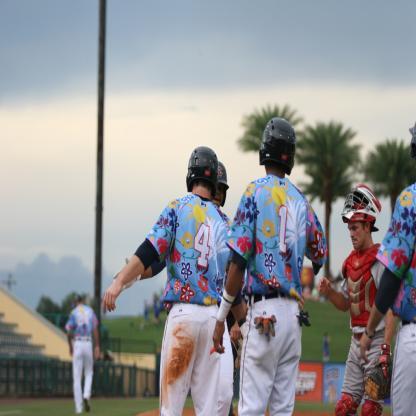Helmet: (258, 117, 300, 175), (184, 143, 218, 202), (341, 187, 382, 233), (214, 159, 232, 209), (407, 115, 416, 166)
